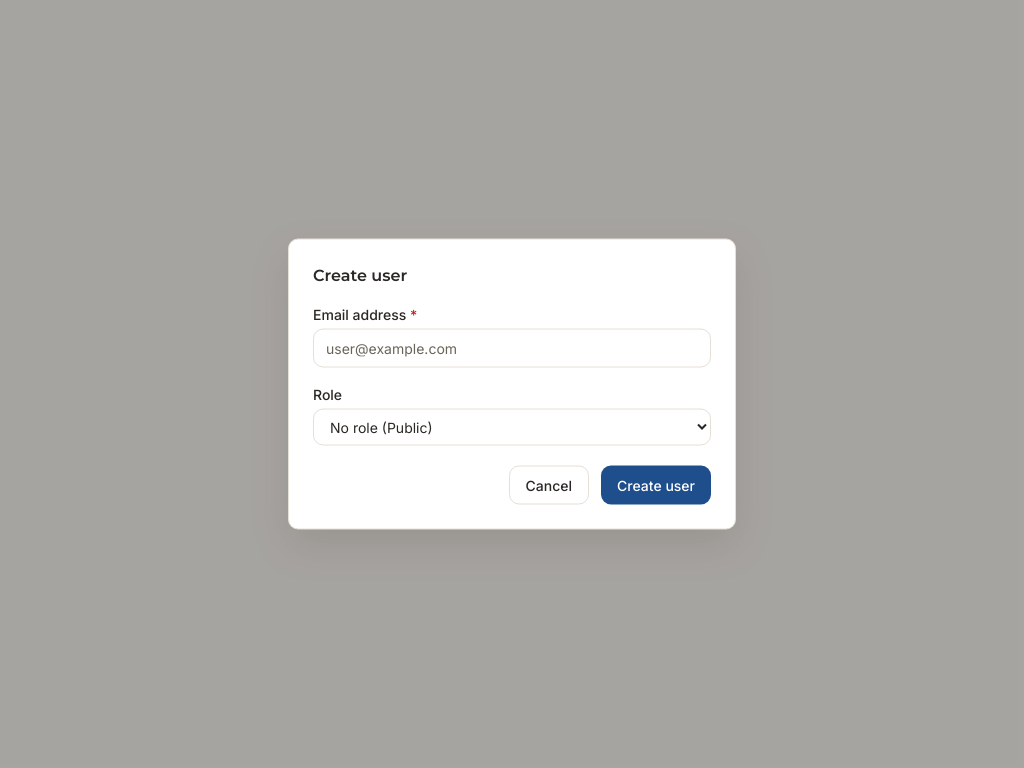
Scenario: CreateUserDialog — temp-password handoff › still shows the temporary password when the invite email failed to send (email NOT sent branch)
This screenshot has width=1024, height=768.
Type "new@example.com" into the field labelled "Email address *" at (512, 348), box [313, 328, 711, 368]
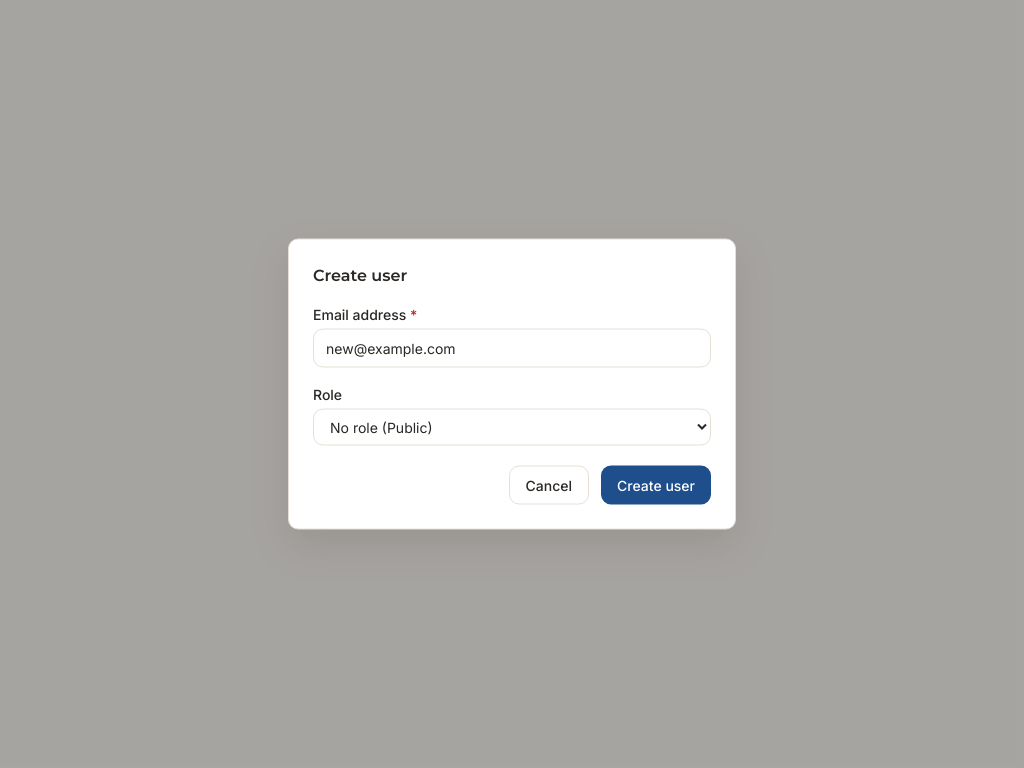
Click the button "Create user" at (656, 485), box [601, 466, 711, 504]
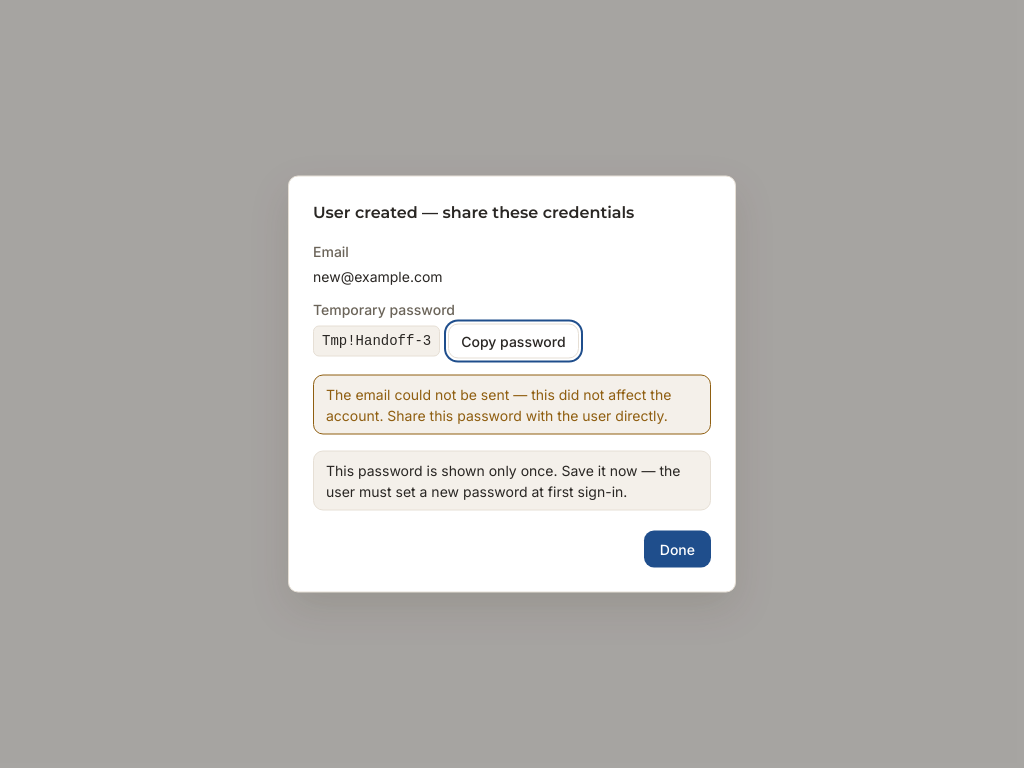
expect the text "Tmp!Handoff-3" is shown: met, box [313, 326, 440, 356]
expect the text "share this password with the user directly" is shown: met, box [326, 386, 671, 424]
